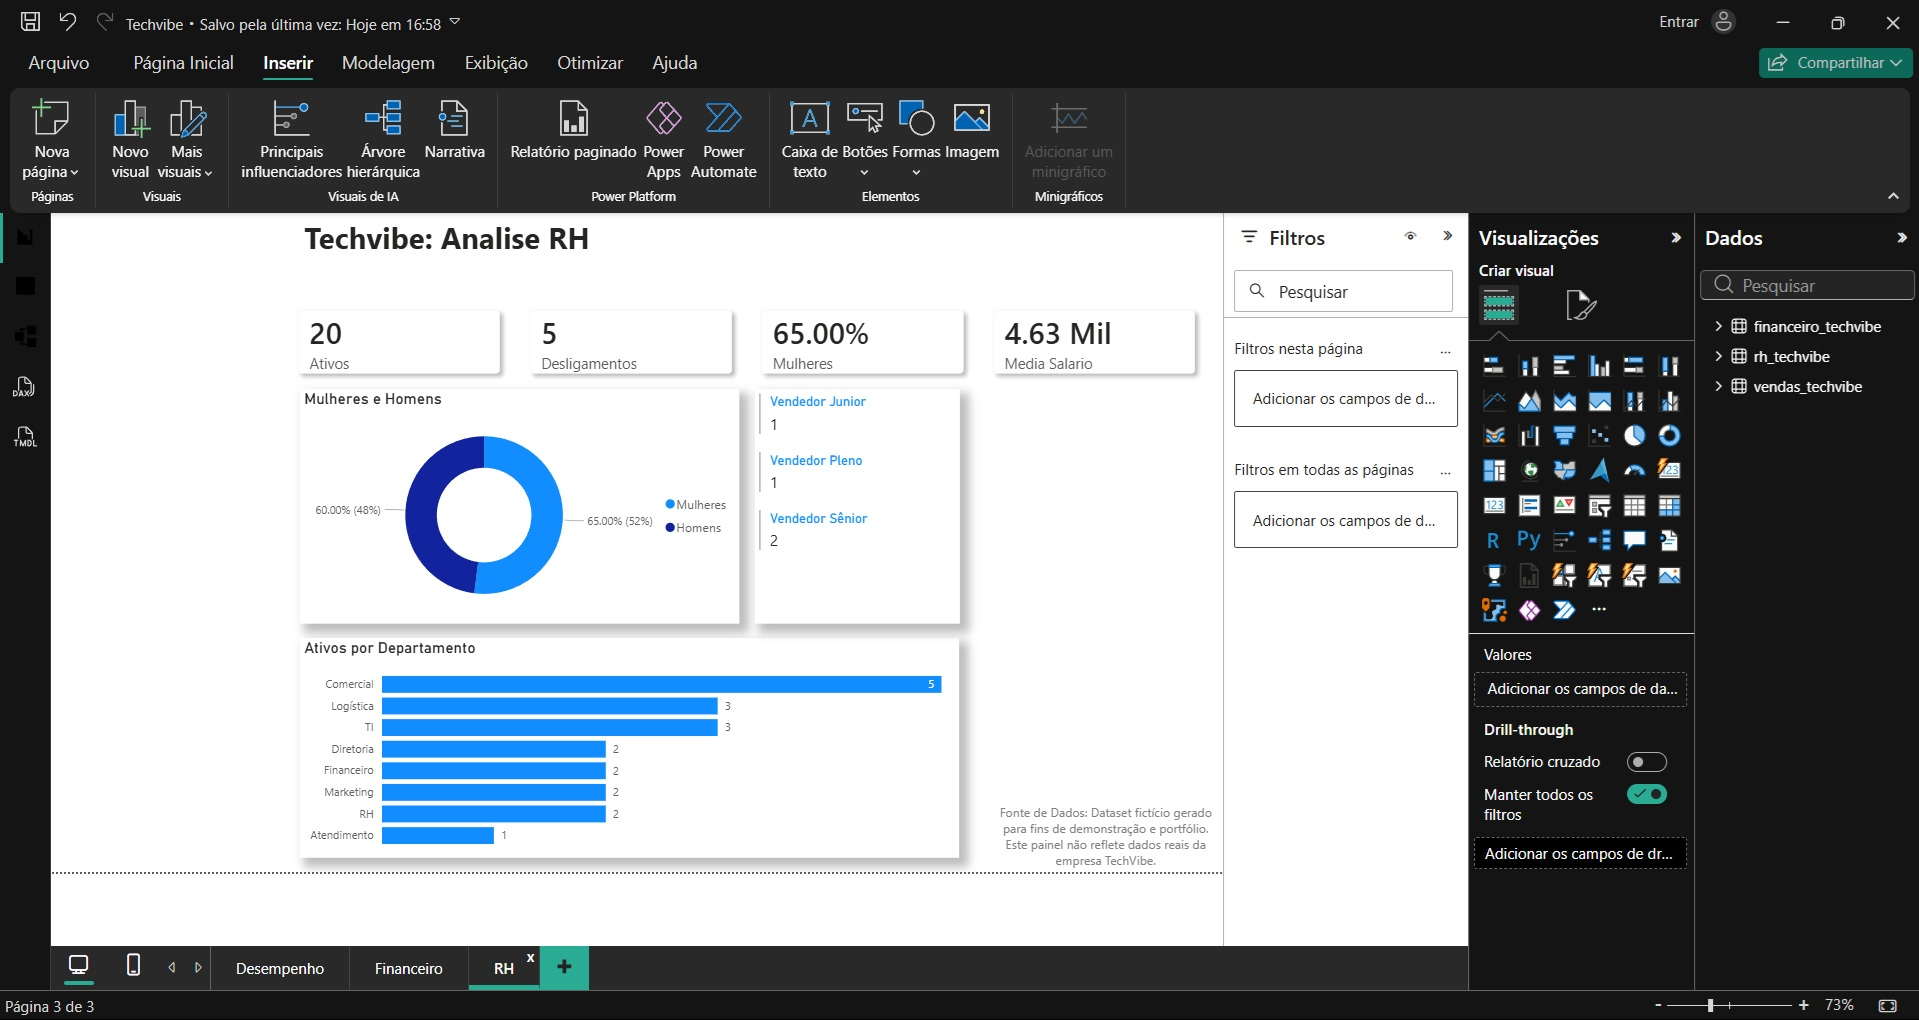

The page's visual inventory and layout, read from the dashboard file:
{"tool":"powerbi","page":{"name":"RH","canvas":[1280,720],"ordinal":2},"visuals":[{"type":"cardVisual","fields":{"Data":["rh_techvibe.Ativos","rh_techvibe.Desligamentos","rh_techvibe.Mulheres","rh_techvibe.Media Salario"]},"box":[240,76.6,1040,128],"z":0},{"type":"donutChart","fields":{"Y":["rh_techvibe.Mulheres","rh_techvibe.Homens"]},"box":[272,192,480,256],"z":1000},{"type":"clusteredBarChart","fields":{"Category":["rh_techvibe.Departamento"],"Y":["rh_techvibe.Ativos"]},"box":[272,464,720,240],"z":2000},{"type":"textbox","box":[272,0,1008,80],"z":3000},{"type":"multiRowCard","fields":{"Values":["rh_techvibe.Cargo","rh_techvibe.Ativos"]},"box":[768,192,224,256],"z":4000},{"type":"textbox","box":[1024,640,256,80],"z":4001}]}

Visuals, with their boxes on the page's 1280x720 design canvas (x1, y1, x2, y2). These are canvas units, not pixel positions in the 1919x1020 screenshot, which may show the page scaled, cropped or inside an application window:
cardVisual - rh_techvibe.Ativos x rh_techvibe.Desligamentos: (left=240, top=77, right=1280, bottom=205)
donutChart - rh_techvibe.Mulheres x rh_techvibe.Homens: (left=272, top=192, right=752, bottom=448)
clusteredBarChart - rh_techvibe.Departamento x rh_techvibe.Ativos: (left=272, top=464, right=992, bottom=704)
textbox: (left=272, top=0, right=1280, bottom=80)
multiRowCard - rh_techvibe.Cargo x rh_techvibe.Ativos: (left=768, top=192, right=992, bottom=448)
textbox: (left=1024, top=640, right=1280, bottom=720)
